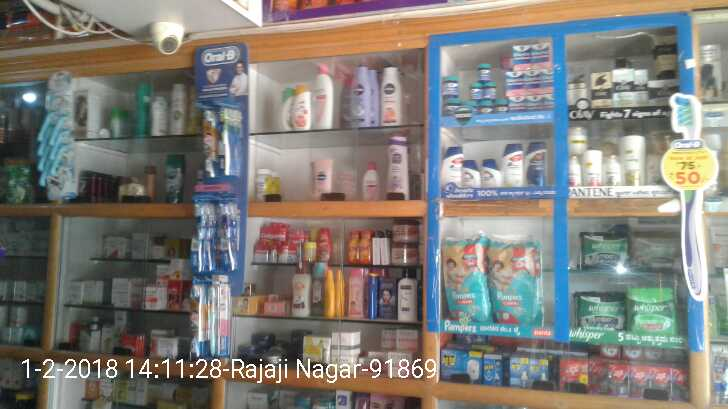beauty: (617, 130, 644, 187), (437, 144, 461, 192), (527, 143, 551, 188), (580, 144, 602, 189), (588, 73, 613, 110), (506, 140, 524, 188), (613, 69, 632, 109), (462, 154, 481, 188), (479, 160, 502, 187)
pharmacy: (486, 244, 538, 327), (443, 232, 481, 320), (624, 289, 677, 342), (574, 285, 626, 332), (575, 232, 630, 267), (217, 102, 240, 181), (188, 277, 207, 363), (189, 202, 210, 271), (217, 202, 238, 269), (209, 280, 225, 354), (509, 42, 530, 71), (532, 43, 552, 72), (506, 71, 523, 98), (525, 71, 541, 95), (443, 78, 462, 97), (476, 61, 491, 79), (467, 85, 483, 100), (481, 83, 494, 100), (497, 96, 507, 115), (447, 98, 456, 117)
